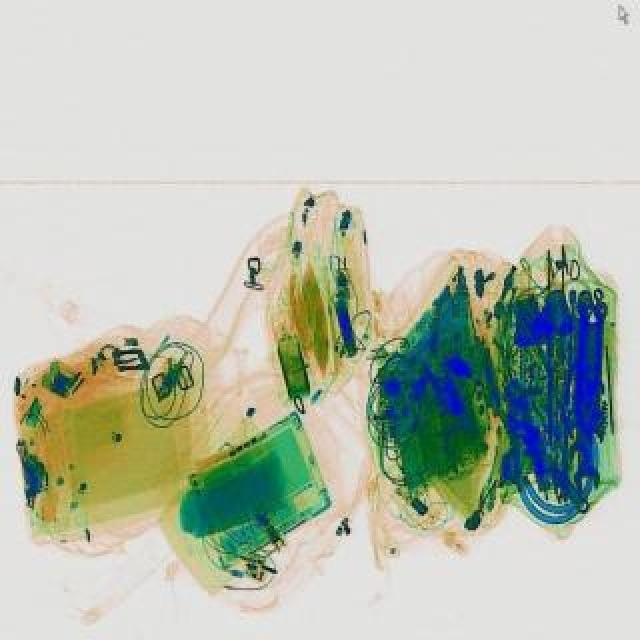scissors: (572, 418, 602, 490), (566, 388, 592, 464)
